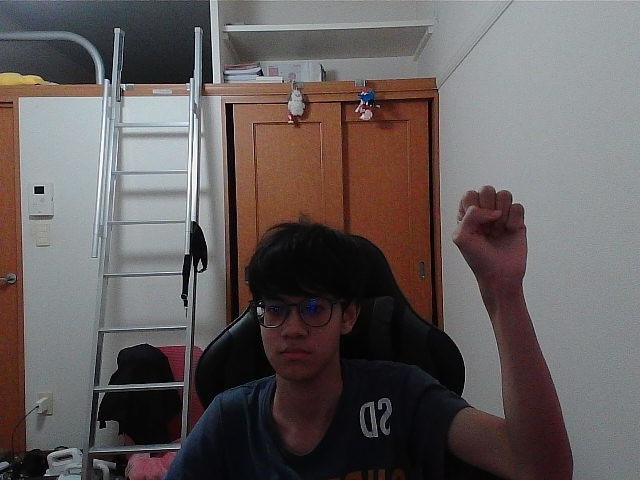closed_palm: (463, 189, 517, 276)
